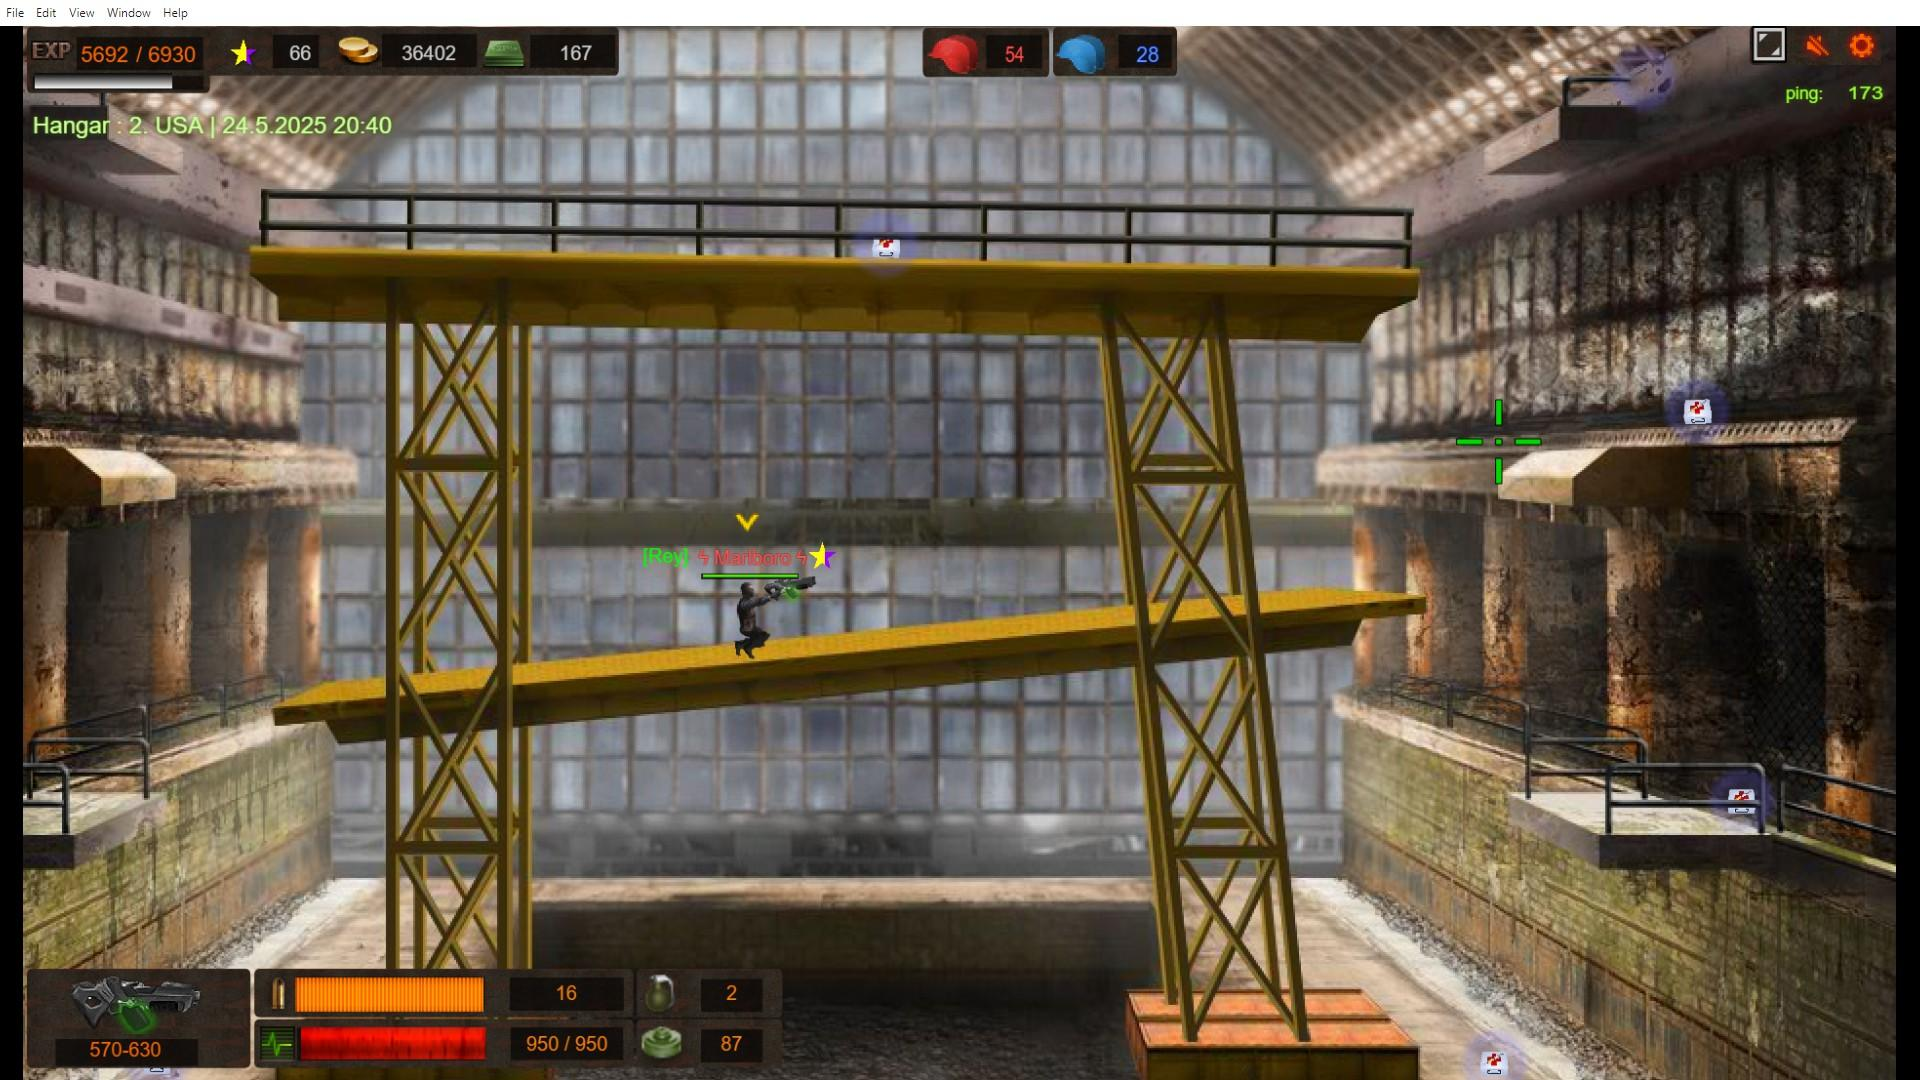enemy: (735, 579, 767, 662)
